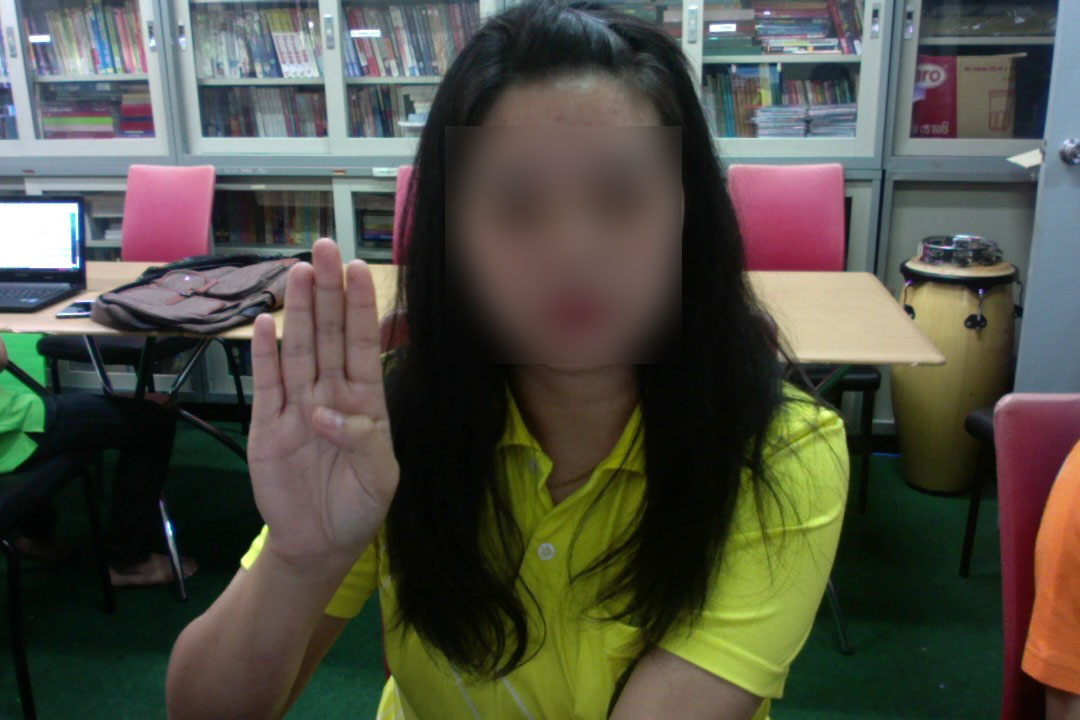bor: (237, 230, 408, 569)
